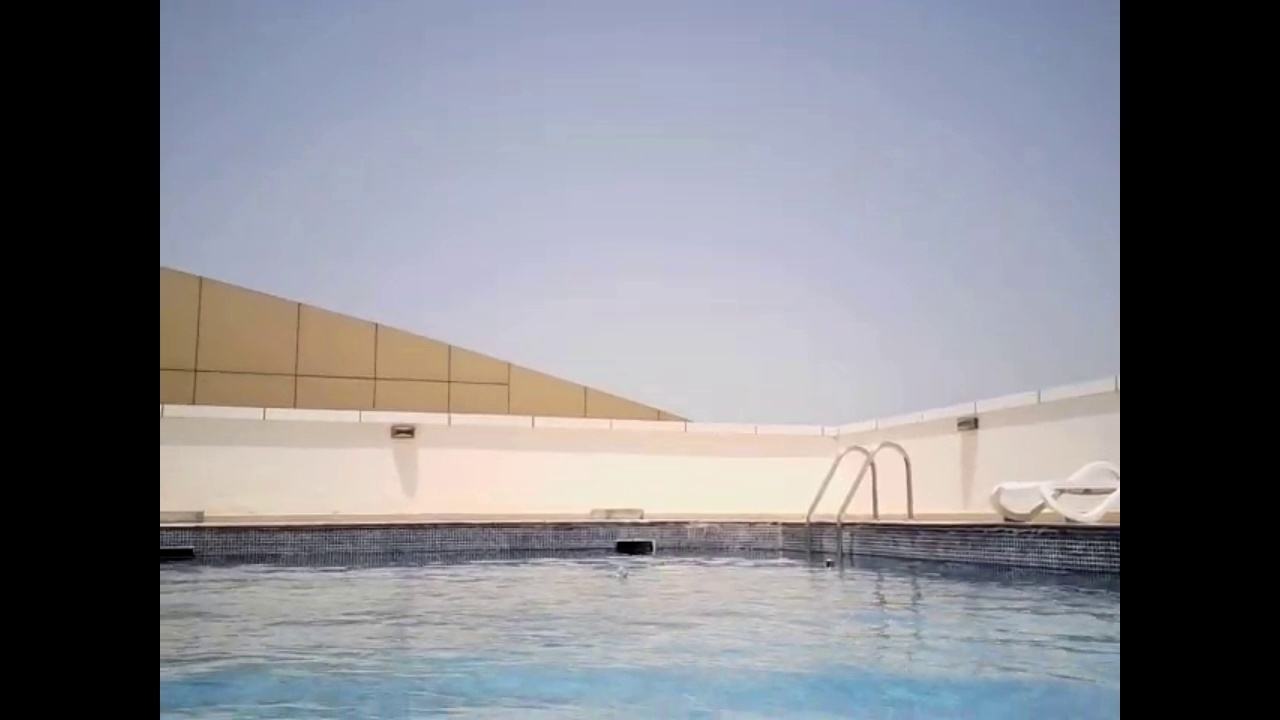debris: (610, 563, 631, 583), (821, 555, 838, 571)
